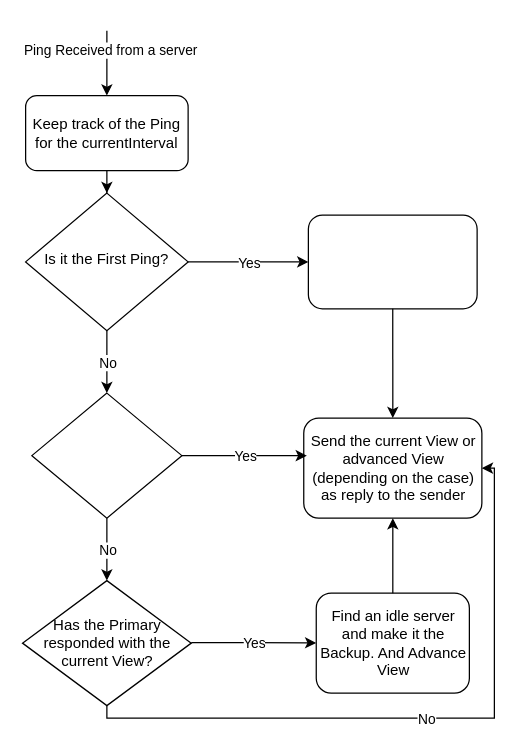
The diagram is 526 pixels wide and 750 high, and some of its shapes have lost their labels. The box of each missing label's shape, as (x1, y1, x2, y2) in pixels:
Do we have a Backup?: (31, 392, 182, 518)
Make the server the Primary and advance View: (307, 214, 477, 309)
